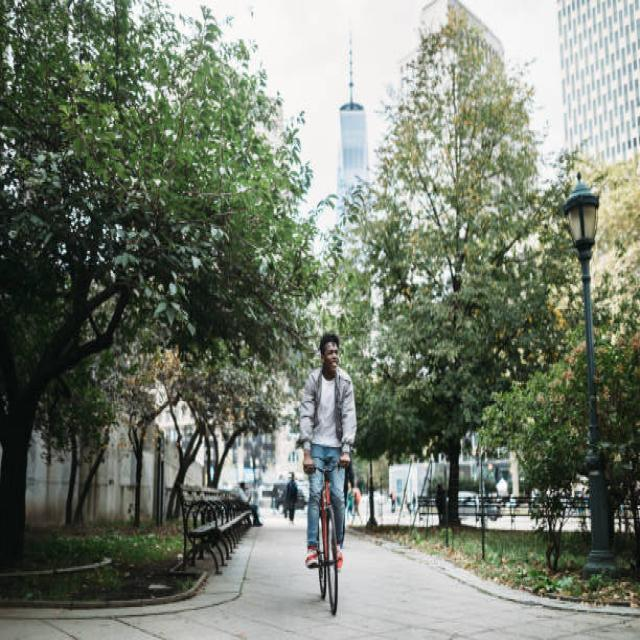bicycle: (300, 334, 356, 614)
